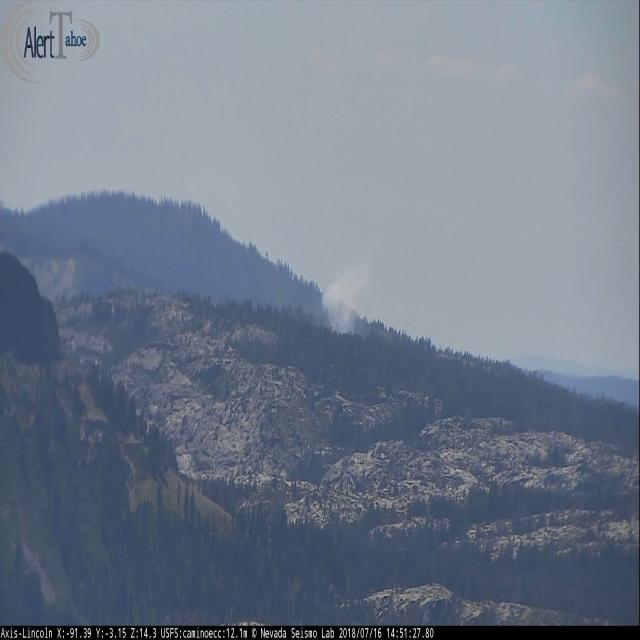smoke: (321, 257, 368, 337)
